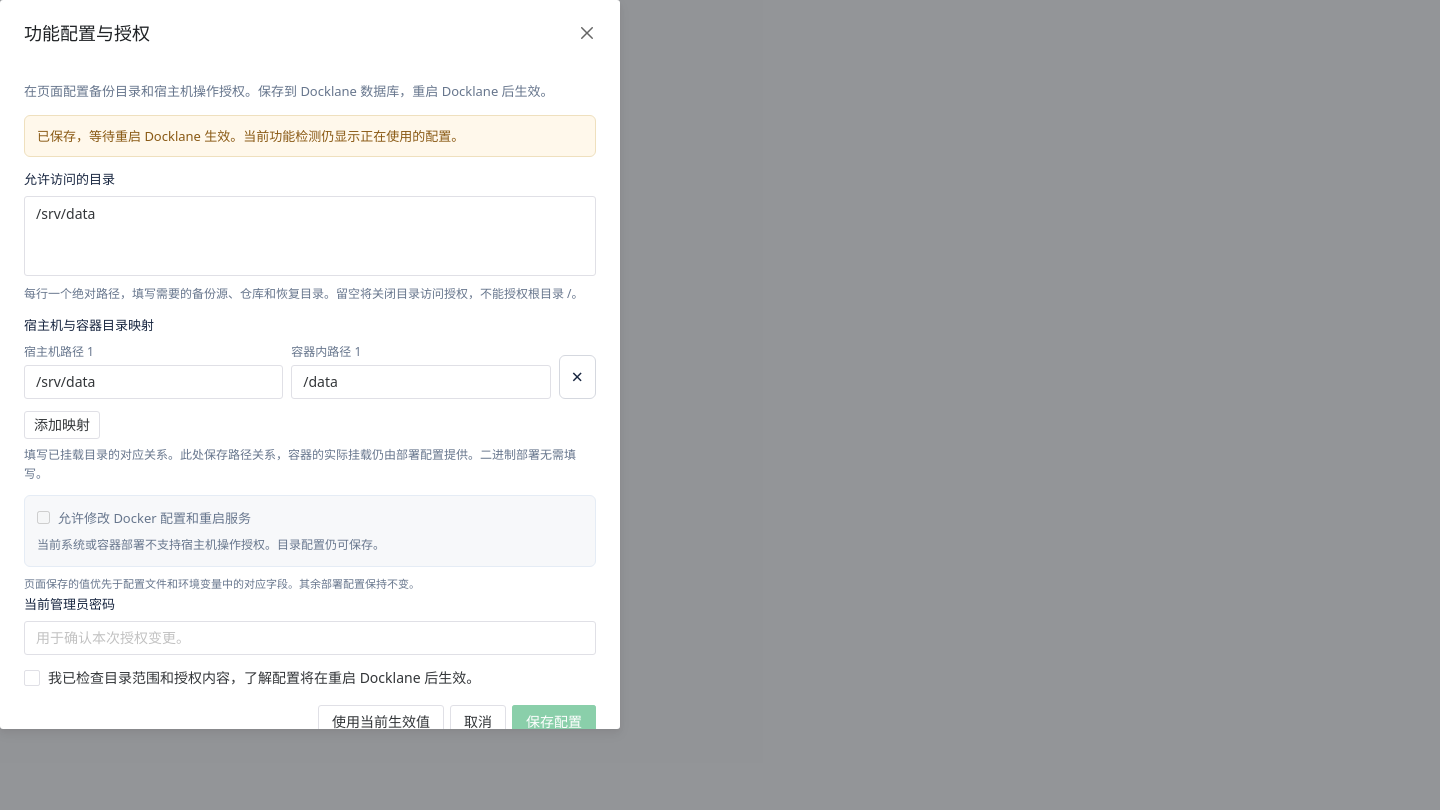
Scenario: Capability settings editor › disables unsupported host authorization while allowing mappings to be edited and removed
This screenshot has width=1440, height=810.
Expected: the checkbox with id "daemon-authorization" is disabled, x1=37 y1=511 x2=50 y2=524
Expected: the checkbox with id "daemon-authorization" is not checked, x1=37 y1=511 x2=50 y2=524
Click the button "添加映射".
click(62, 425)  # box x1=24 y1=411 x2=100 y2=439
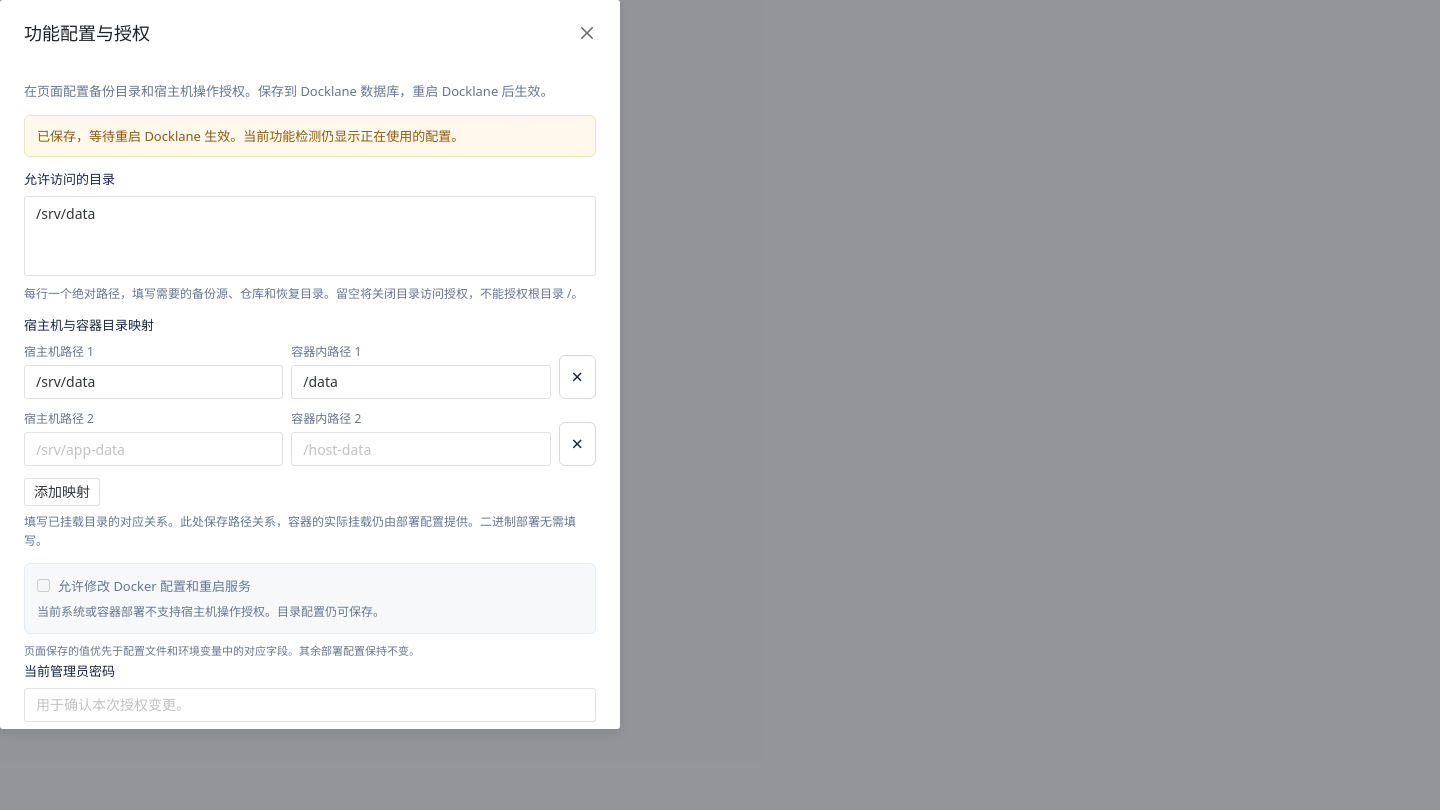
Now the field with id "mapping-host-1" is shown, box x1=36 y1=432 x2=271 y2=466
Click the button named "删除第 2 条映射".
click(577, 444)  # box x1=558 y1=422 x2=596 y2=466
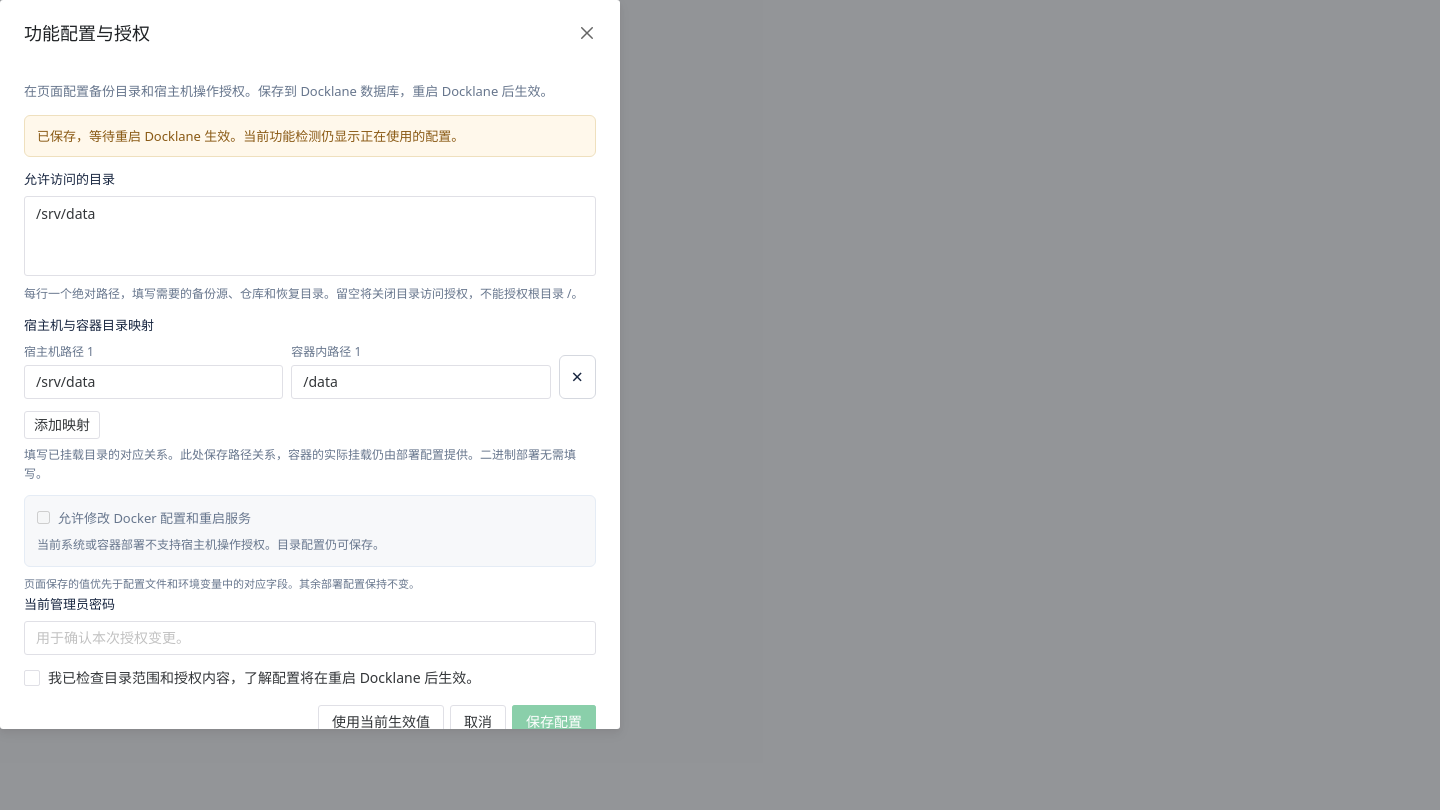
Now the label with id "mapping-host-1" is gone
